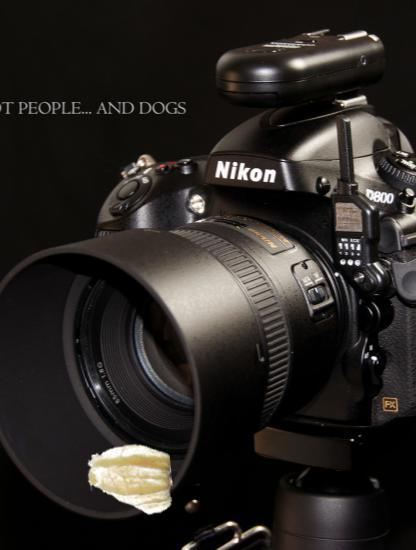Physalis: (87, 438, 173, 524)
